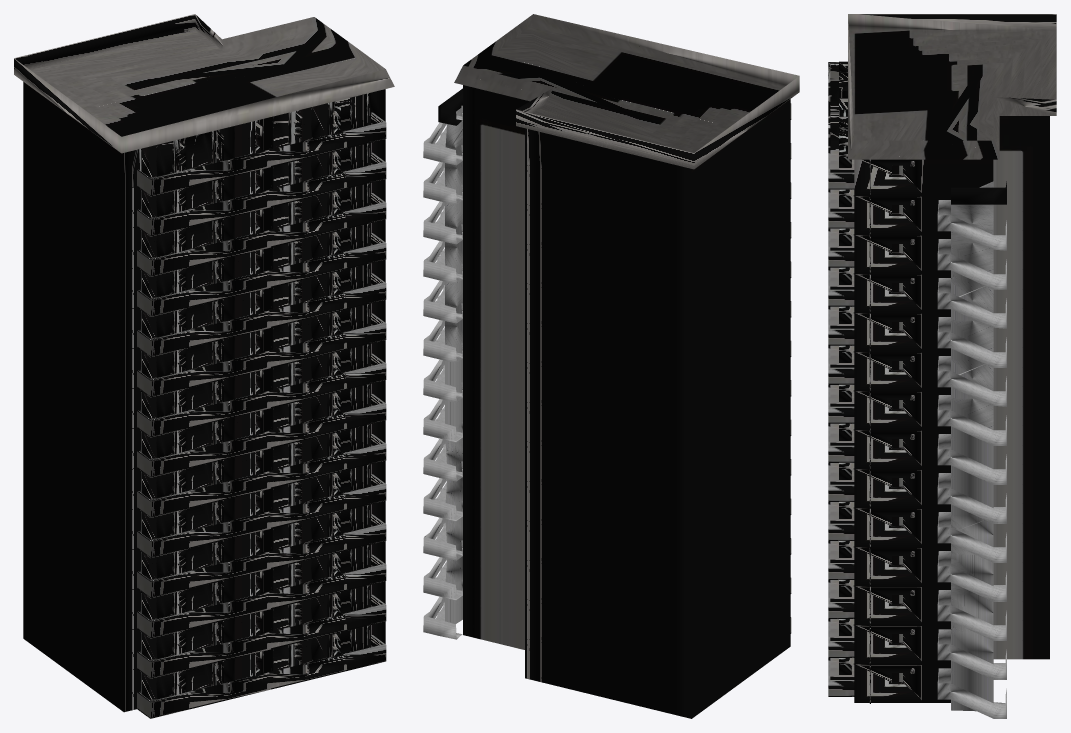
Rendered from tower_a.glb.
The picture shows the model from 3 angles, left to right: view 1: azimuth 30°, elevation 25°; view 2: azimuth 150°, elevation 25°; view 3: azimuth 270°, elevation 25°; orthographic projection. The views are drawn at different scales.
Visible parts, largest first — view 1: Plane, Plane.002; view 2: Plane, Plane.002, Plane.001, Plane.003; view 3: Plane, Plane.001, Plane.002, Plane.003.
Boxes of the visible parts, x1,y1,x2,y2 form: Plane: (23, 82, 386, 718); Plane.002: (14, 14, 394, 153); Plane: (463, 85, 791, 718); Plane.002: (454, 14, 799, 169); Plane.001: (423, 105, 462, 639); Plane.003: (438, 88, 462, 125); Plane: (828, 61, 1049, 703); Plane.001: (937, 181, 1006, 718); Plane.002: (848, 14, 1056, 159); Plane.003: (951, 181, 1006, 204).
Bounding box in the file's own units: 25.02 × 46 × 16.92.
Materials: 4 (3 with a texture image).
